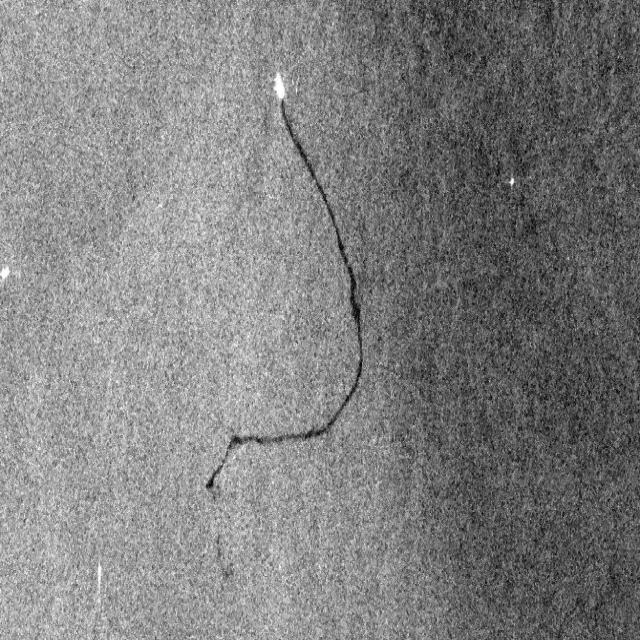oil-spill: (280, 116, 374, 384), (203, 392, 365, 495)
ship: (270, 60, 290, 108), (1, 260, 12, 288)
